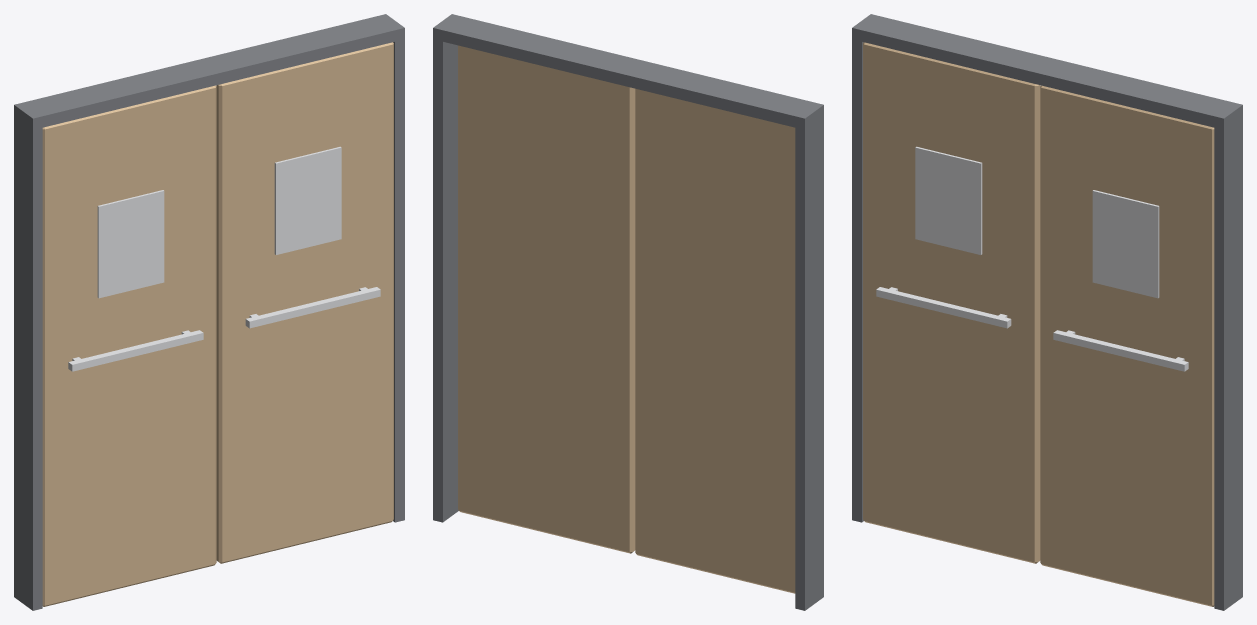
Rendered from door_double.glb.
3 views of the same model, side by side, from view 1: azimuth 30°, elevation 25°; view 2: azimuth 150°, elevation 25°; view 3: azimuth 330°, elevation 25° (orthographic).
Parts seen in each view (by area): view 1: door_double; view 2: door_double; view 3: door_double.
Part boxes in pixels (box(x1,y1,x2,y2)): door_double: box(14, 14, 404, 610); door_double: box(433, 14, 823, 610); door_double: box(852, 14, 1242, 610).
Size of the model in its own units: 1.7 by 2.15 by 0.21.
